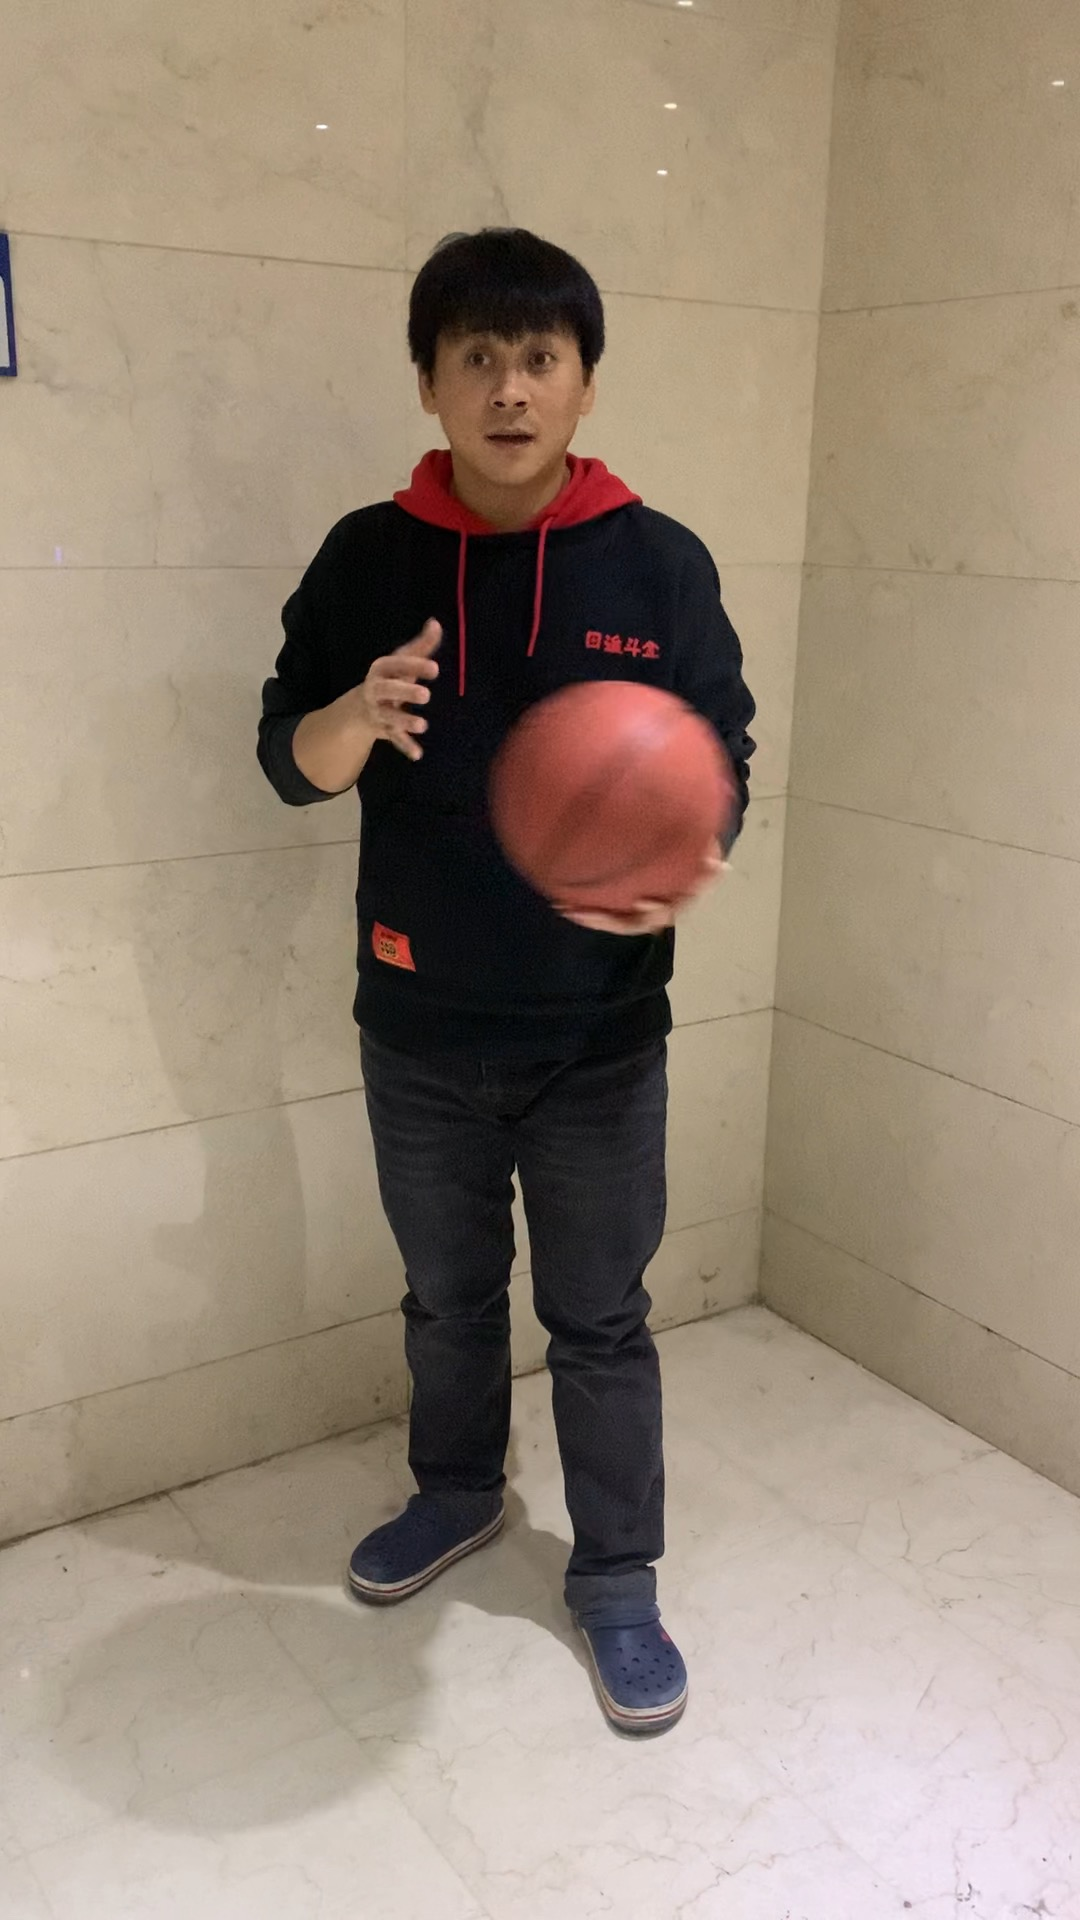ball: (484, 678, 735, 920)
